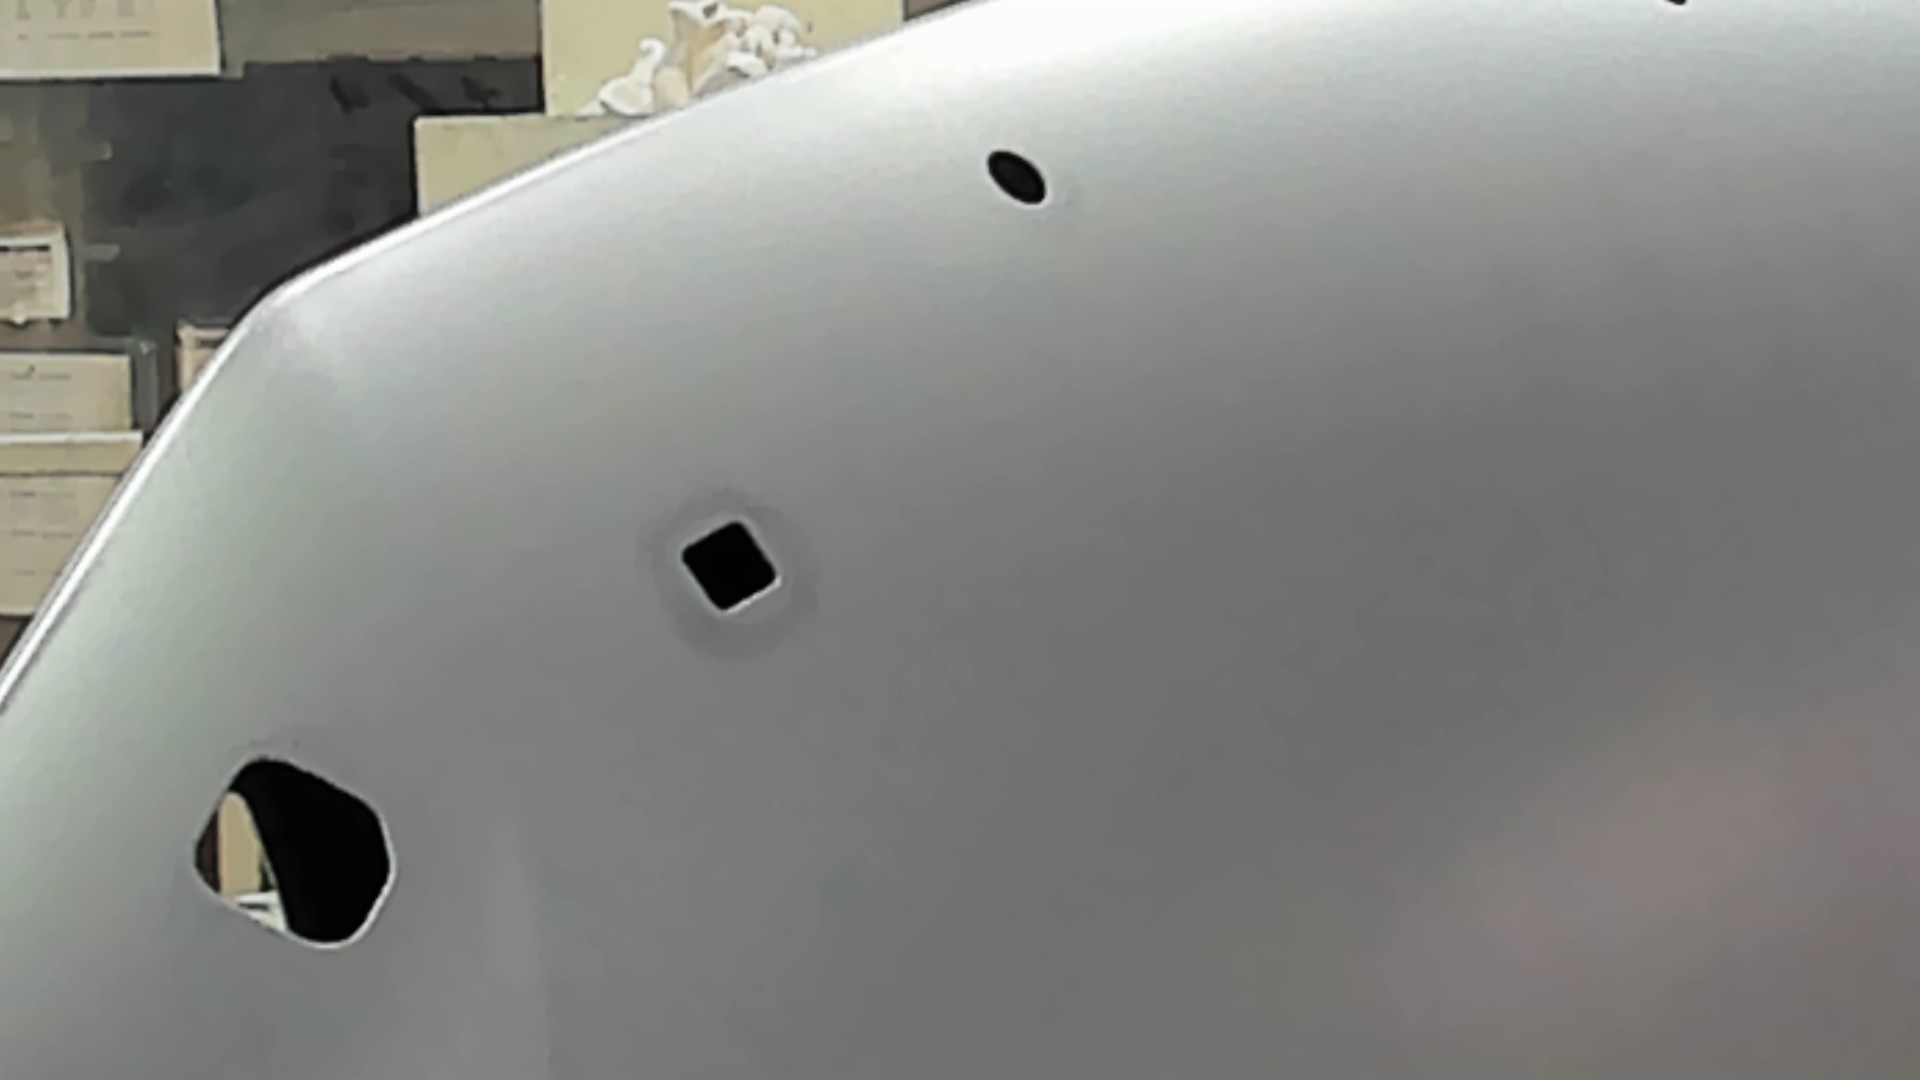chico: (982, 144, 1050, 211)
grande: (185, 756, 400, 957)
mediano: (673, 516, 786, 624)
